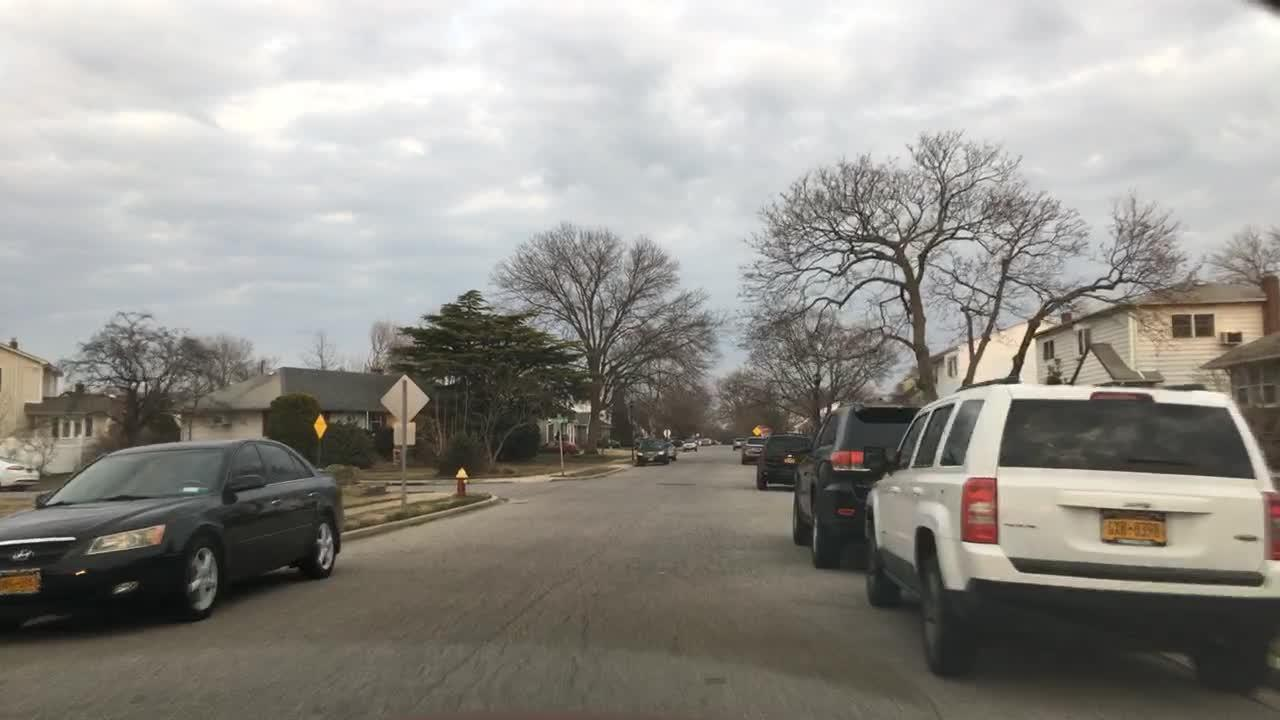Hyundai: (6, 542, 39, 565)
